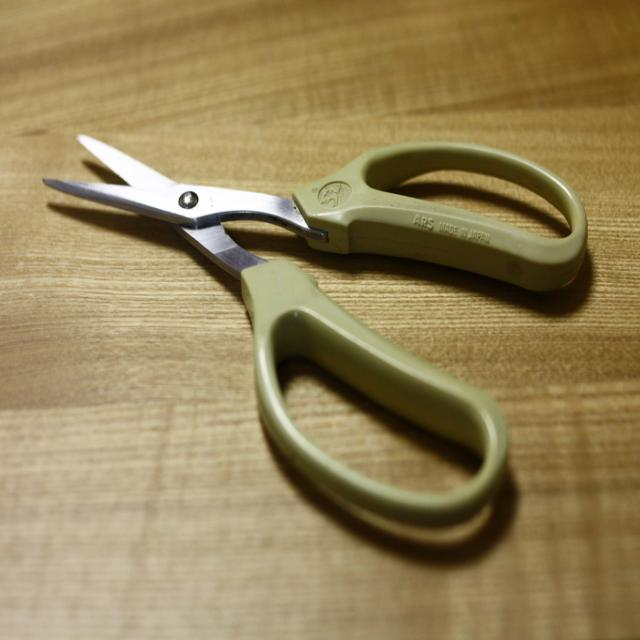scissors: (41, 131, 588, 550)
